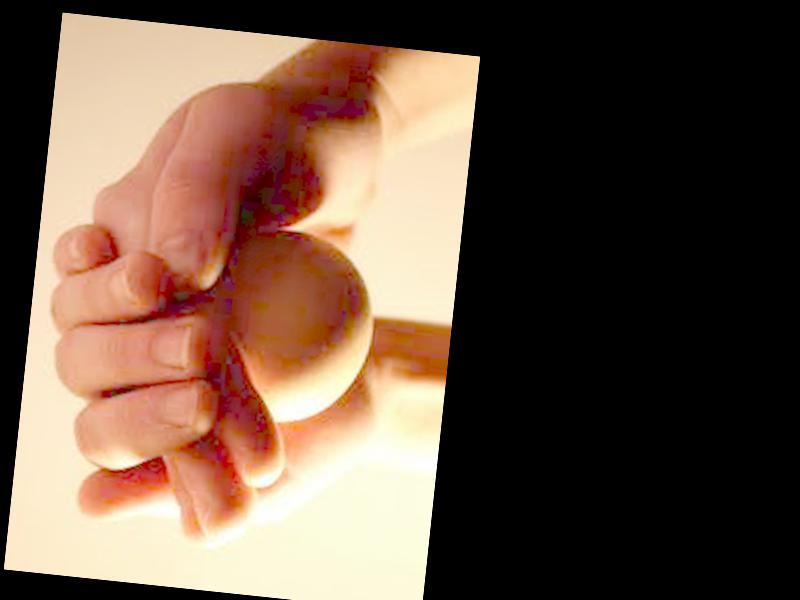Eggs: (215, 222, 382, 430)
